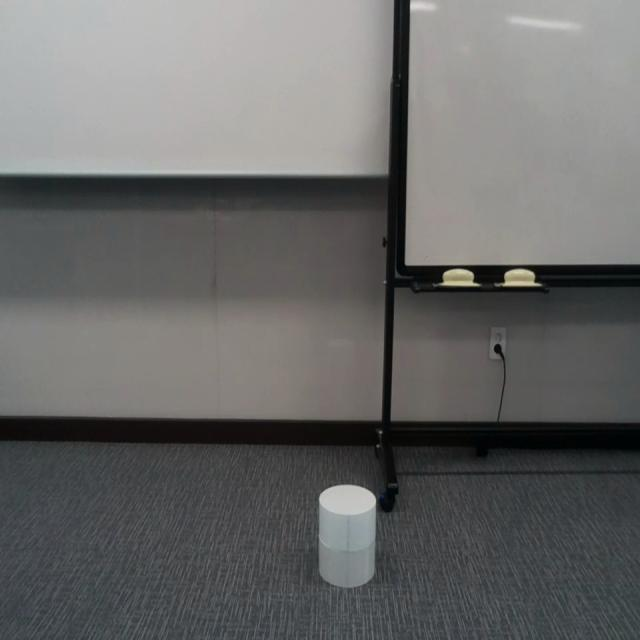cylinder: (319, 483, 376, 589)
